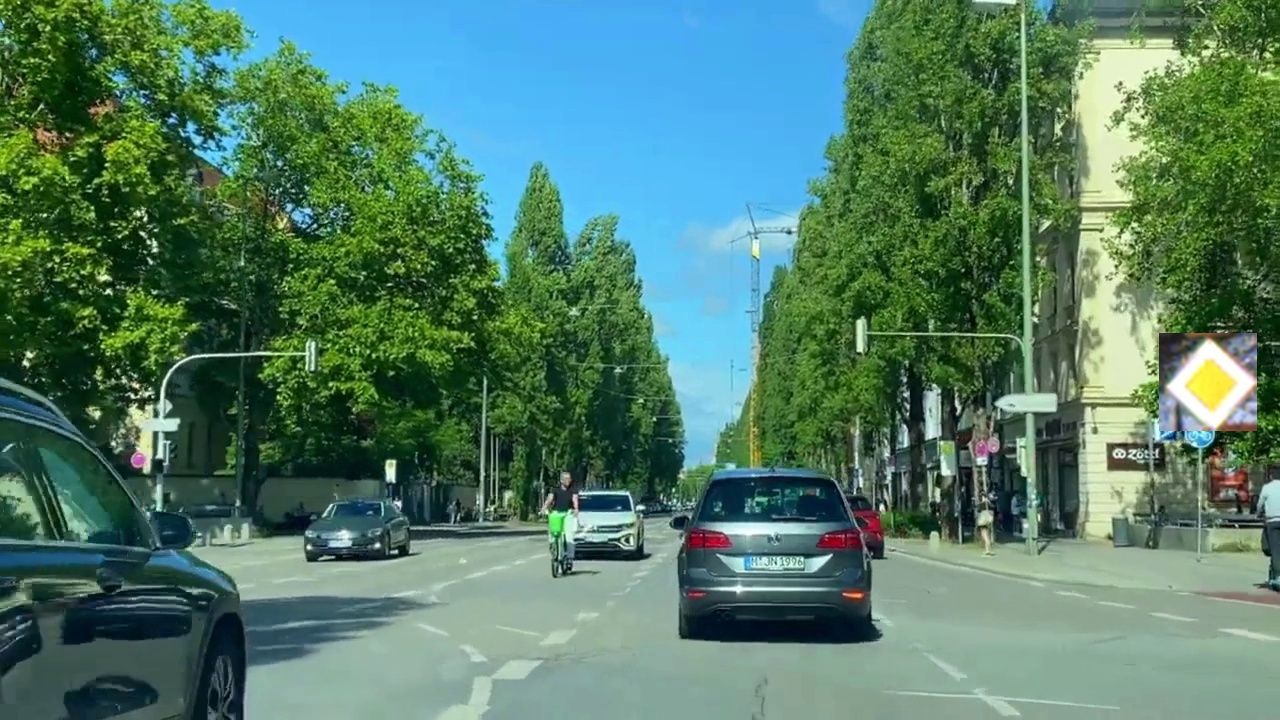Priority road: (1159, 333, 1257, 431)
